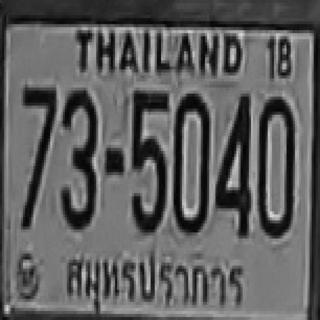N00: (171, 90, 209, 232), (257, 94, 293, 235)
N03: (59, 88, 96, 226)
N04: (213, 90, 249, 236)
N05: (130, 88, 167, 230)
N07: (21, 85, 54, 226), (21, 85, 54, 184), (21, 84, 54, 172)
P57: (54, 238, 247, 318)
